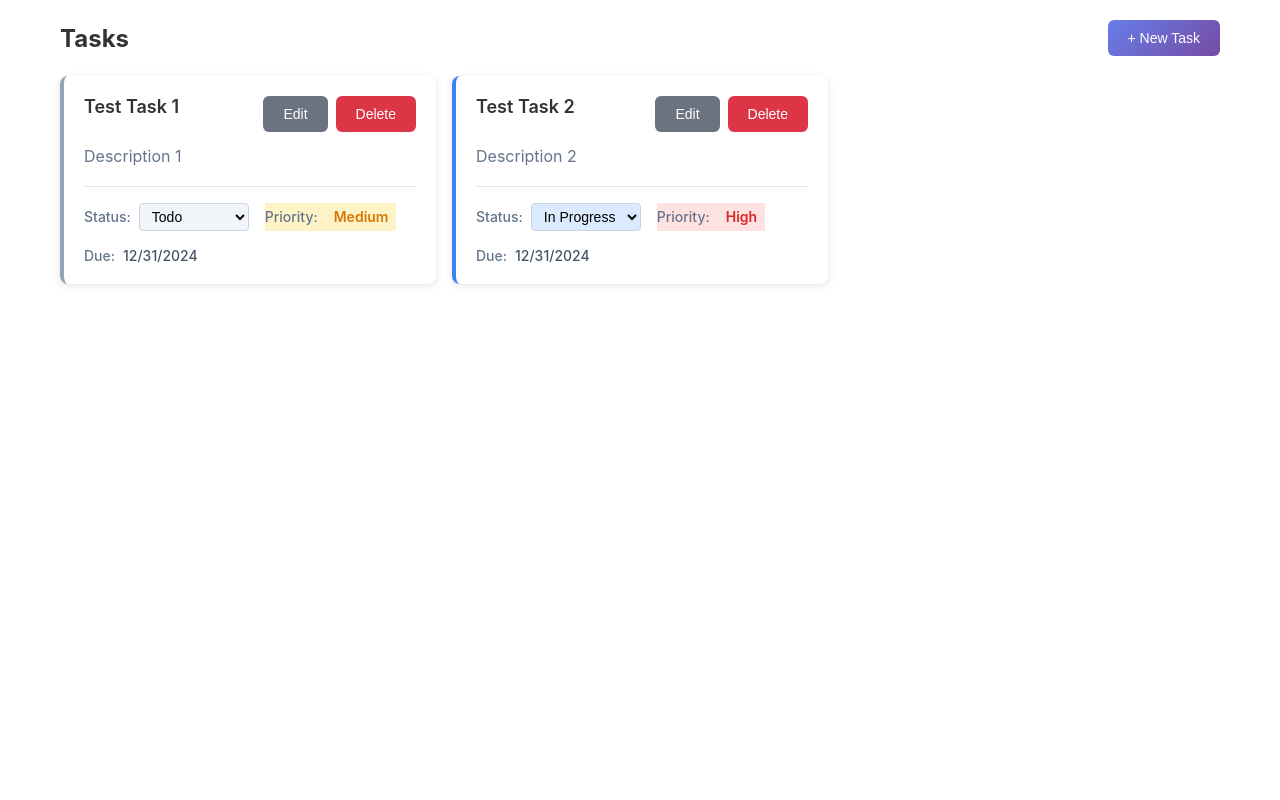
Test: TaskList › opens form when New Task button is clicked
Expected: the heading "Tasks" is shown, top-left (60, 24), bottom-right (129, 52)
Step 1. Click the button "+ New Task" → (1164, 38), box top-left (1108, 20), bottom-right (1220, 56)
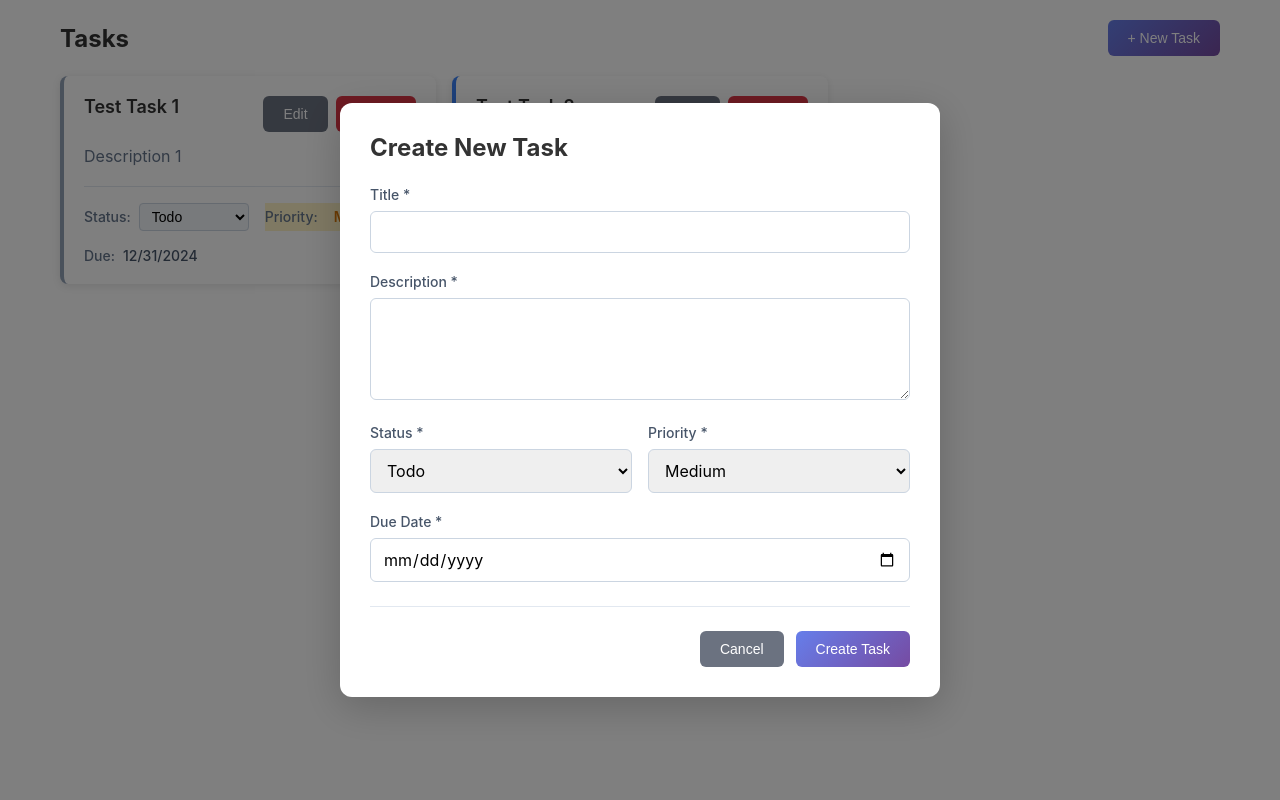
Now the heading "Create New Task" is shown, box top-left (370, 133), bottom-right (568, 162)
